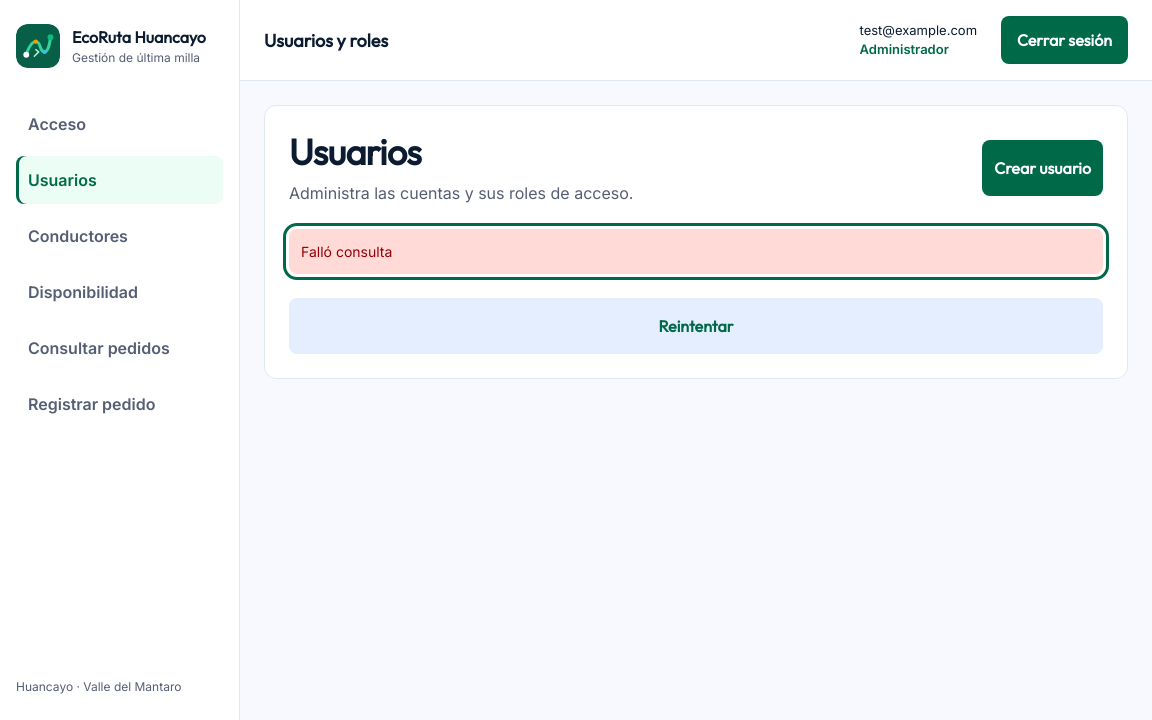
Test: US-003 interfaz › muestra error y reintenta consulta: {}
Expected: the message "Falló consulta" is shown, [289,229,1103,274]
Click the button "Reintentar" at [696, 326], box [289,298,1103,354]
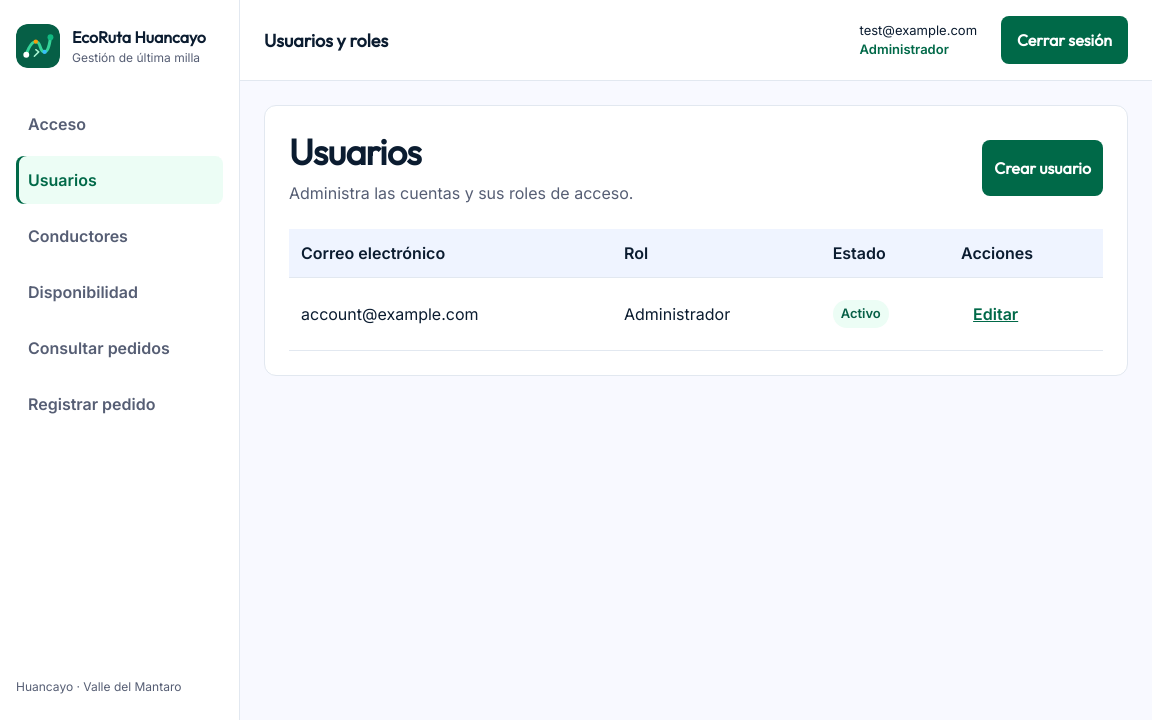
Now the cell "account@example.com" is shown, box [289,278,612,351]
